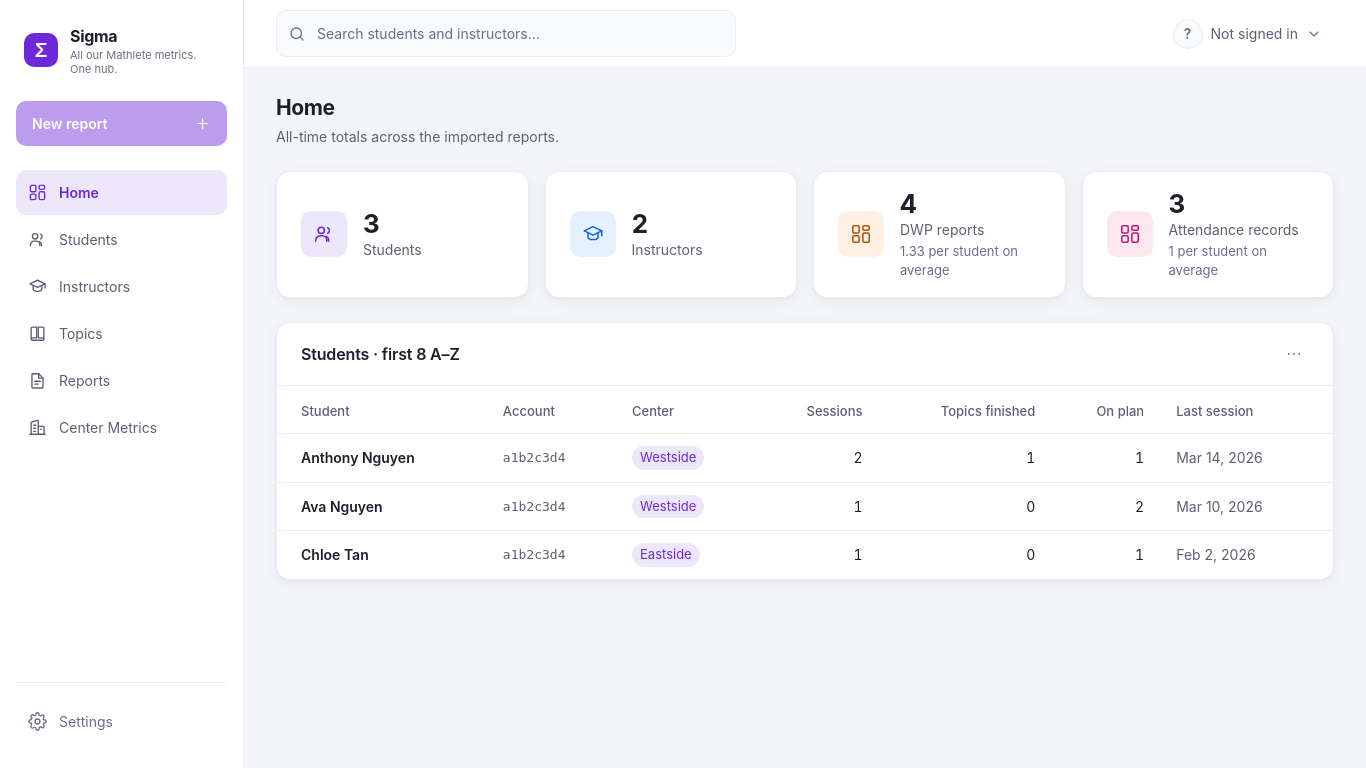
it: global search › does not ask the server below the two-character floor
The image size is (1366, 768).
Type "a" into the search field labelled "Search students and instructors…" at [506, 34], box [276, 10, 736, 57]
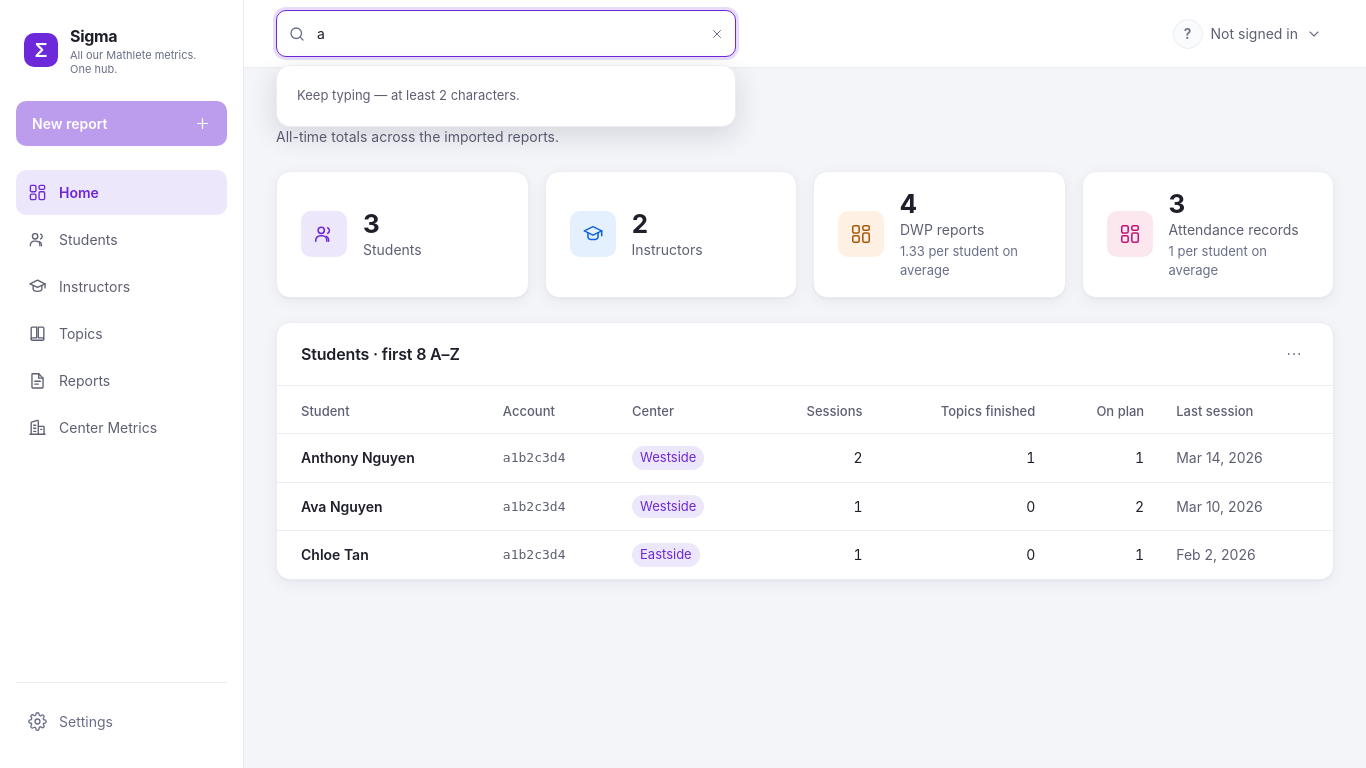
Expected: the text "Keep typing — at least 2 characters." is shown, [297, 87, 520, 103]
